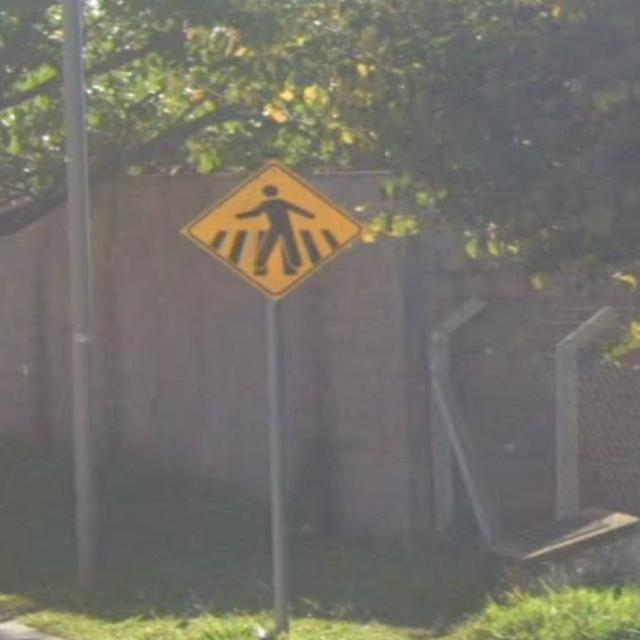pedestrian crossing: (178, 153, 370, 294)
